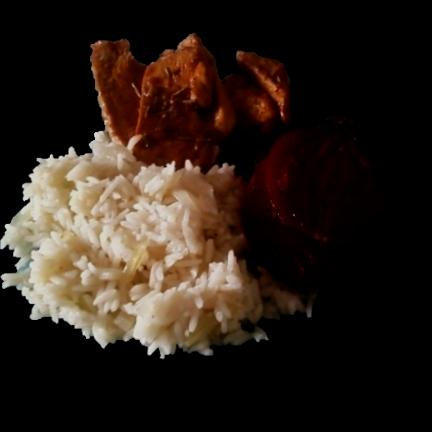beet: (243, 113, 426, 287)
chicken: (91, 32, 296, 178)
rice: (1, 131, 318, 357)
